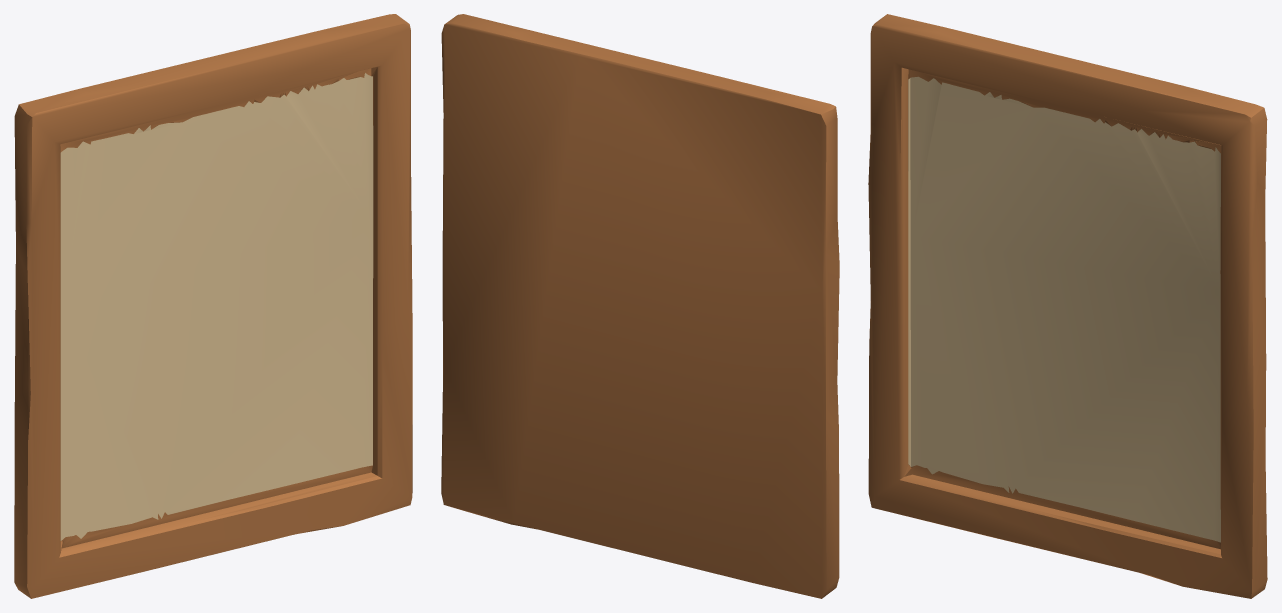
The model's file is botanicalPrint.glb.
The picture shows the model from 3 angles, left to right: view 1: azimuth 30°, elevation 25°; view 2: azimuth 150°, elevation 25°; view 3: azimuth 330°, elevation 25°; orthographic projection.
Visible parts, largest first — view 1: botanicalPrint_canvas, botanicalPrint_wood; view 2: botanicalPrint_wood; view 3: botanicalPrint_canvas, botanicalPrint_wood.
Boxes of the visible parts, left/top/right/bottom form: botanicalPrint_canvas: left=60, top=73, right=373, bottom=540; botanicalPrint_wood: left=14, top=14, right=412, bottom=598; botanicalPrint_wood: left=441, top=14, right=839, bottom=598; botanicalPrint_canvas: left=908, top=76, right=1220, bottom=542; botanicalPrint_wood: left=868, top=14, right=1267, bottom=598.
Size of the model in its own units: 1.21 by 1.46 by 0.0795.
